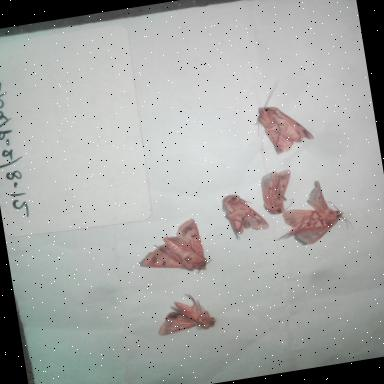abw: (264, 168, 362, 254), (127, 212, 219, 288), (242, 72, 320, 160), (144, 280, 230, 346), (209, 184, 279, 250), (252, 158, 305, 224)
